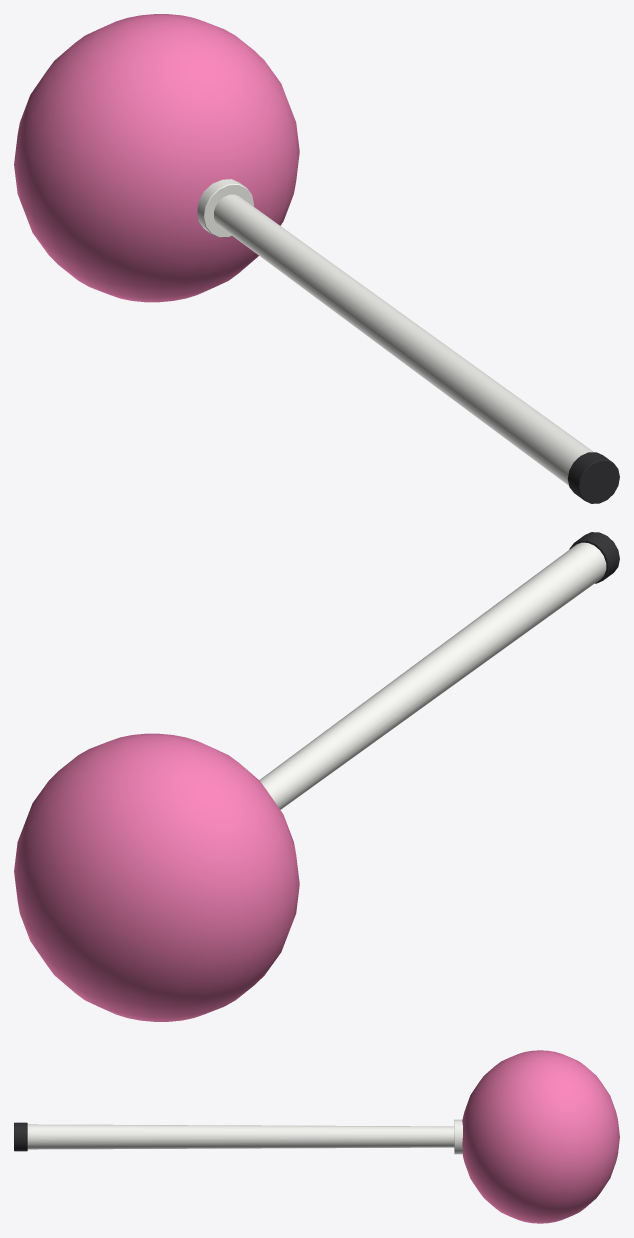
The model's file is mazo_chupetin.glb.
The picture shows the model from 3 angles, top to bottom: view 1: azimuth 30°, elevation 25°; view 2: azimuth 150°, elevation 25°; view 3: azimuth 270°, elevation 25°; orthographic projection. The views are drawn at different scales.
Visible parts, largest first — view 1: mazo_chupetin; view 2: mazo_chupetin; view 3: mazo_chupetin.
Part boxes in pixels (left/top/right/bottom): mazo_chupetin: left=14, top=14, right=619, bottom=503; mazo_chupetin: left=14, top=532, right=619, bottom=1021; mazo_chupetin: left=14, top=1050, right=619, bottom=1223.
Size of the model in its own units: 0.33 by 0.33 by 1.15.
